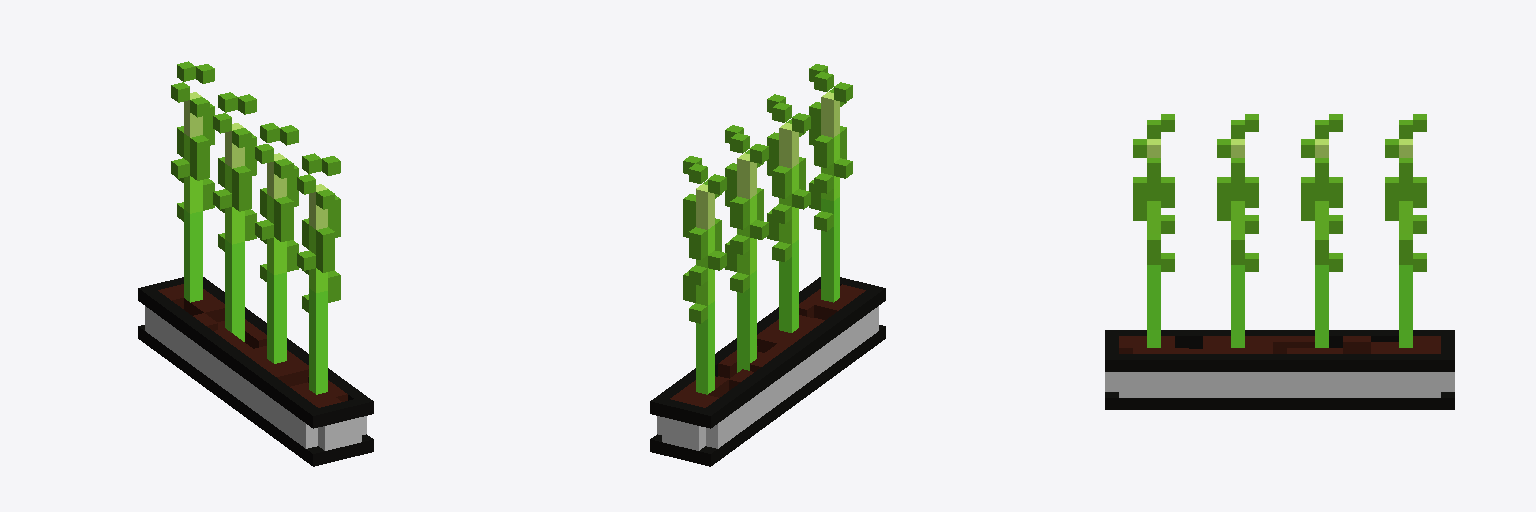
The picture shows the model from 3 angles: view 1: azimuth 30°, elevation 25°; view 2: azimuth 150°, elevation 25°; view 3: azimuth 270°, elevation 25°; orthographic projection.
Visible parts, largest first — view 1: object 1; view 2: object 1; view 3: object 1.
Part boxes in pixels (left/top/right/bottom): object 1: left=138, top=61, right=373, bottom=466; object 1: left=650, top=64, right=885, bottom=466; object 1: left=1105, top=114, right=1454, bottom=409.
Size of the model in its own units: 0.5 by 2.2 by 2.5.
1 materials, 1 textured.